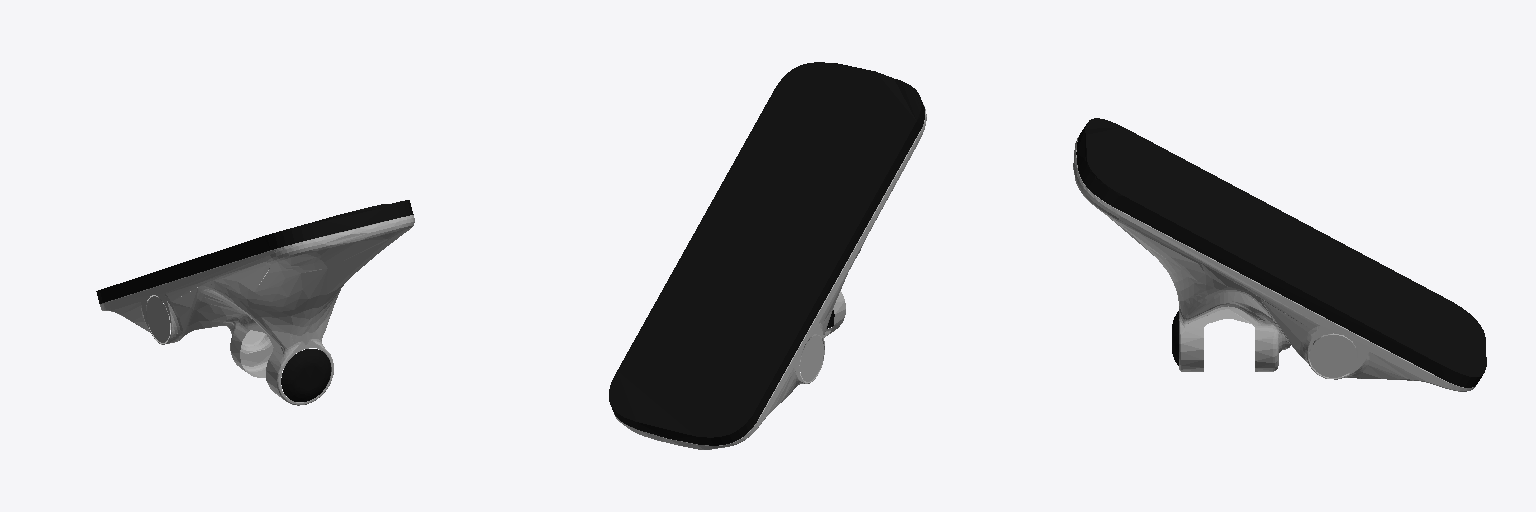
The model's file is toe-roll-mirror.obj.
The picture shows the model from 3 angles: view 1: azimuth 30°, elevation 25°; view 2: azimuth 150°, elevation 25°; view 3: azimuth 270°, elevation 25°; orthographic projection.
Visible parts, largest first — view 1: __TMPOBJ_____TMPMESH__.042; view 2: __TMPOBJ_____TMPMESH__.042; view 3: __TMPOBJ_____TMPMESH__.042.
Part boxes in pixels (left/top/right/bottom): __TMPOBJ_____TMPMESH__.042: left=96, top=200, right=414, bottom=405; __TMPOBJ_____TMPMESH__.042: left=609, top=62, right=926, bottom=449; __TMPOBJ_____TMPMESH__.042: left=1073, top=118, right=1486, bottom=391.
Bounding box in the file's own units: 0.084 × 0.1314 × 0.2124.